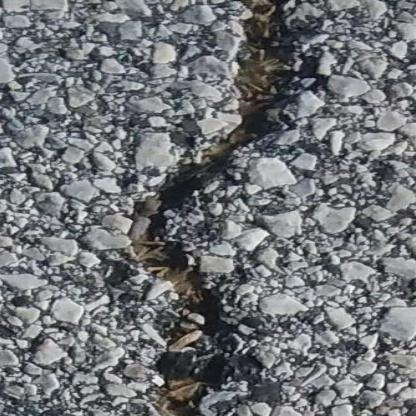Cracks: (97, 0, 319, 416)
